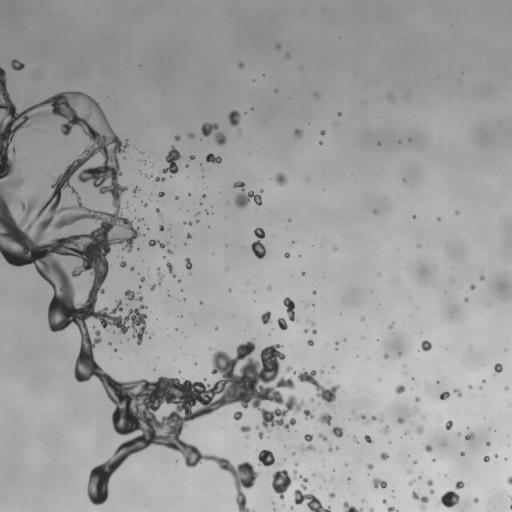droplet: (271, 469, 308, 499), (233, 182, 263, 208), (439, 490, 459, 507), (258, 449, 274, 466), (201, 122, 218, 136), (228, 110, 240, 126), (214, 132, 226, 145), (318, 413, 331, 425), (206, 153, 221, 163), (11, 59, 24, 70), (275, 172, 286, 185), (372, 478, 386, 488), (331, 426, 343, 437), (261, 311, 271, 324), (277, 318, 287, 330), (421, 340, 431, 351), (13, 177, 23, 187), (439, 391, 450, 400), (303, 409, 313, 418), (494, 363, 502, 374), (233, 411, 242, 420), (395, 385, 405, 393), (185, 258, 192, 269), (294, 129, 302, 138), (381, 425, 389, 434), (318, 433, 327, 441), (465, 432, 474, 440), (304, 434, 313, 442), (455, 481, 464, 489), (445, 420, 452, 430), (240, 425, 250, 432), (364, 435, 372, 443), (424, 444, 432, 452), (380, 452, 388, 460), (454, 388, 461, 396), (416, 426, 423, 434), (132, 186, 138, 194), (397, 417, 404, 423), (120, 261, 126, 267), (307, 339, 313, 345), (483, 456, 489, 462), (258, 431, 263, 438), (507, 476, 511, 484), (174, 135, 180, 140), (158, 192, 164, 197), (149, 285, 155, 290), (367, 464, 373, 469), (427, 479, 432, 485), (238, 62, 243, 67), (314, 92, 319, 97), (159, 225, 164, 230), (284, 252, 289, 257), (470, 284, 475, 289), (414, 397, 419, 402), (408, 480, 413, 485), (473, 497, 478, 502), (189, 155, 195, 159), (404, 430, 410, 434), (329, 493, 335, 497), (276, 43, 280, 48), (188, 133, 193, 137), (187, 233, 191, 238), (167, 249, 172, 253), (309, 321, 314, 325), (384, 354, 388, 359), (328, 446, 332, 451), (407, 469, 412, 473), (388, 94, 392, 98), (321, 130, 325, 134), (140, 277, 144, 281), (480, 276, 484, 280), (312, 290, 316, 294), (464, 297, 468, 301), (312, 330, 316, 334), (335, 446, 339, 450), (460, 451, 464, 455), (430, 489, 434, 493), (382, 499, 386, 503), (186, 222, 191, 225), (303, 329, 308, 332), (143, 204, 147, 207), (130, 267, 134, 270), (268, 286, 271, 290), (388, 325, 392, 328), (335, 341, 338, 345), (398, 351, 401, 355), (380, 418, 383, 422), (413, 460, 416, 464), (369, 508, 373, 511), (202, 194, 205, 197), (333, 247, 336, 250), (301, 272, 304, 275), (361, 317, 364, 320), (320, 370, 323, 373), (469, 385, 472, 388), (504, 387, 507, 390), (310, 398, 313, 401), (457, 432, 460, 435), (245, 435, 248, 438), (354, 438, 357, 441), (486, 442, 489, 445), (495, 454, 498, 457), (347, 478, 350, 481), (290, 506, 293, 509), (286, 54, 289, 56), (338, 112, 340, 115), (319, 141, 321, 144), (175, 196, 177, 199), (374, 210, 376, 213), (455, 211, 458, 213), (417, 244, 419, 247), (178, 279, 180, 282), (108, 342, 111, 344), (335, 347, 337, 350), (295, 462, 297, 465), (509, 496, 511, 499), (238, 129, 240, 131), (186, 165, 188, 167), (206, 211, 208, 213), (197, 212, 199, 214), (438, 217, 440, 219), (139, 219, 141, 221), (196, 220, 198, 222), (229, 289, 231, 291), (215, 327, 217, 329), (483, 380, 485, 382), (345, 463, 347, 465), (418, 476, 420, 478)
ligament: (0, 66, 304, 511), (286, 366, 339, 404), (294, 489, 331, 511), (161, 146, 181, 174), (251, 227, 266, 258), (283, 297, 296, 321), (412, 492, 428, 509), (343, 501, 363, 511), (125, 290, 142, 301), (148, 239, 168, 248), (360, 414, 376, 423), (166, 262, 175, 276), (157, 267, 163, 283), (301, 444, 314, 450), (387, 506, 399, 511), (154, 177, 165, 181), (155, 209, 161, 216), (12, 147, 15, 154), (510, 505, 511, 509)
